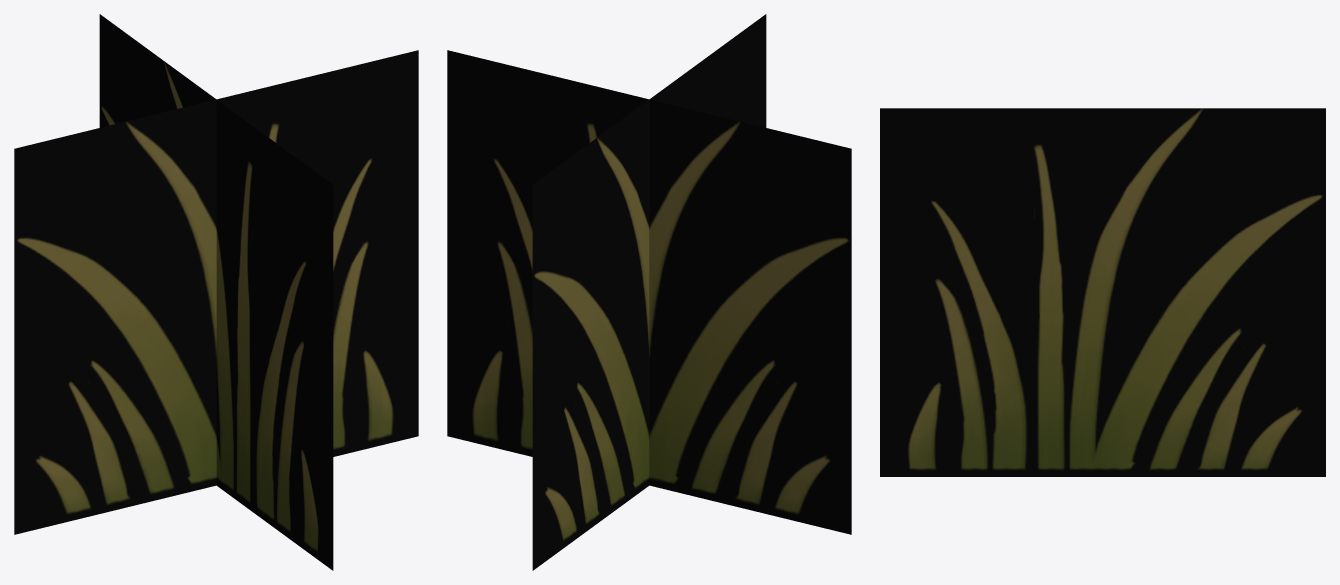
Rendered from Grass_2.FBX.
The picture shows the model from 3 angles, left to right: view 1: azimuth 30°, elevation 25°; view 2: azimuth 150°, elevation 25°; view 3: azimuth 270°, elevation 25°; orthographic projection. The views are drawn at different scales.
Parts seen in each view (by area): view 1: Grass_2; view 2: Grass_2; view 3: Grass_2.
Part boxes in pixels (x1,y1,x2,y2): Grass_2: (14,14,418,570); Grass_2: (447,14,851,570); Grass_2: (880,108,1325,476).
Bounding box in the file's own units: 43.84 × 40 × 43.84.
